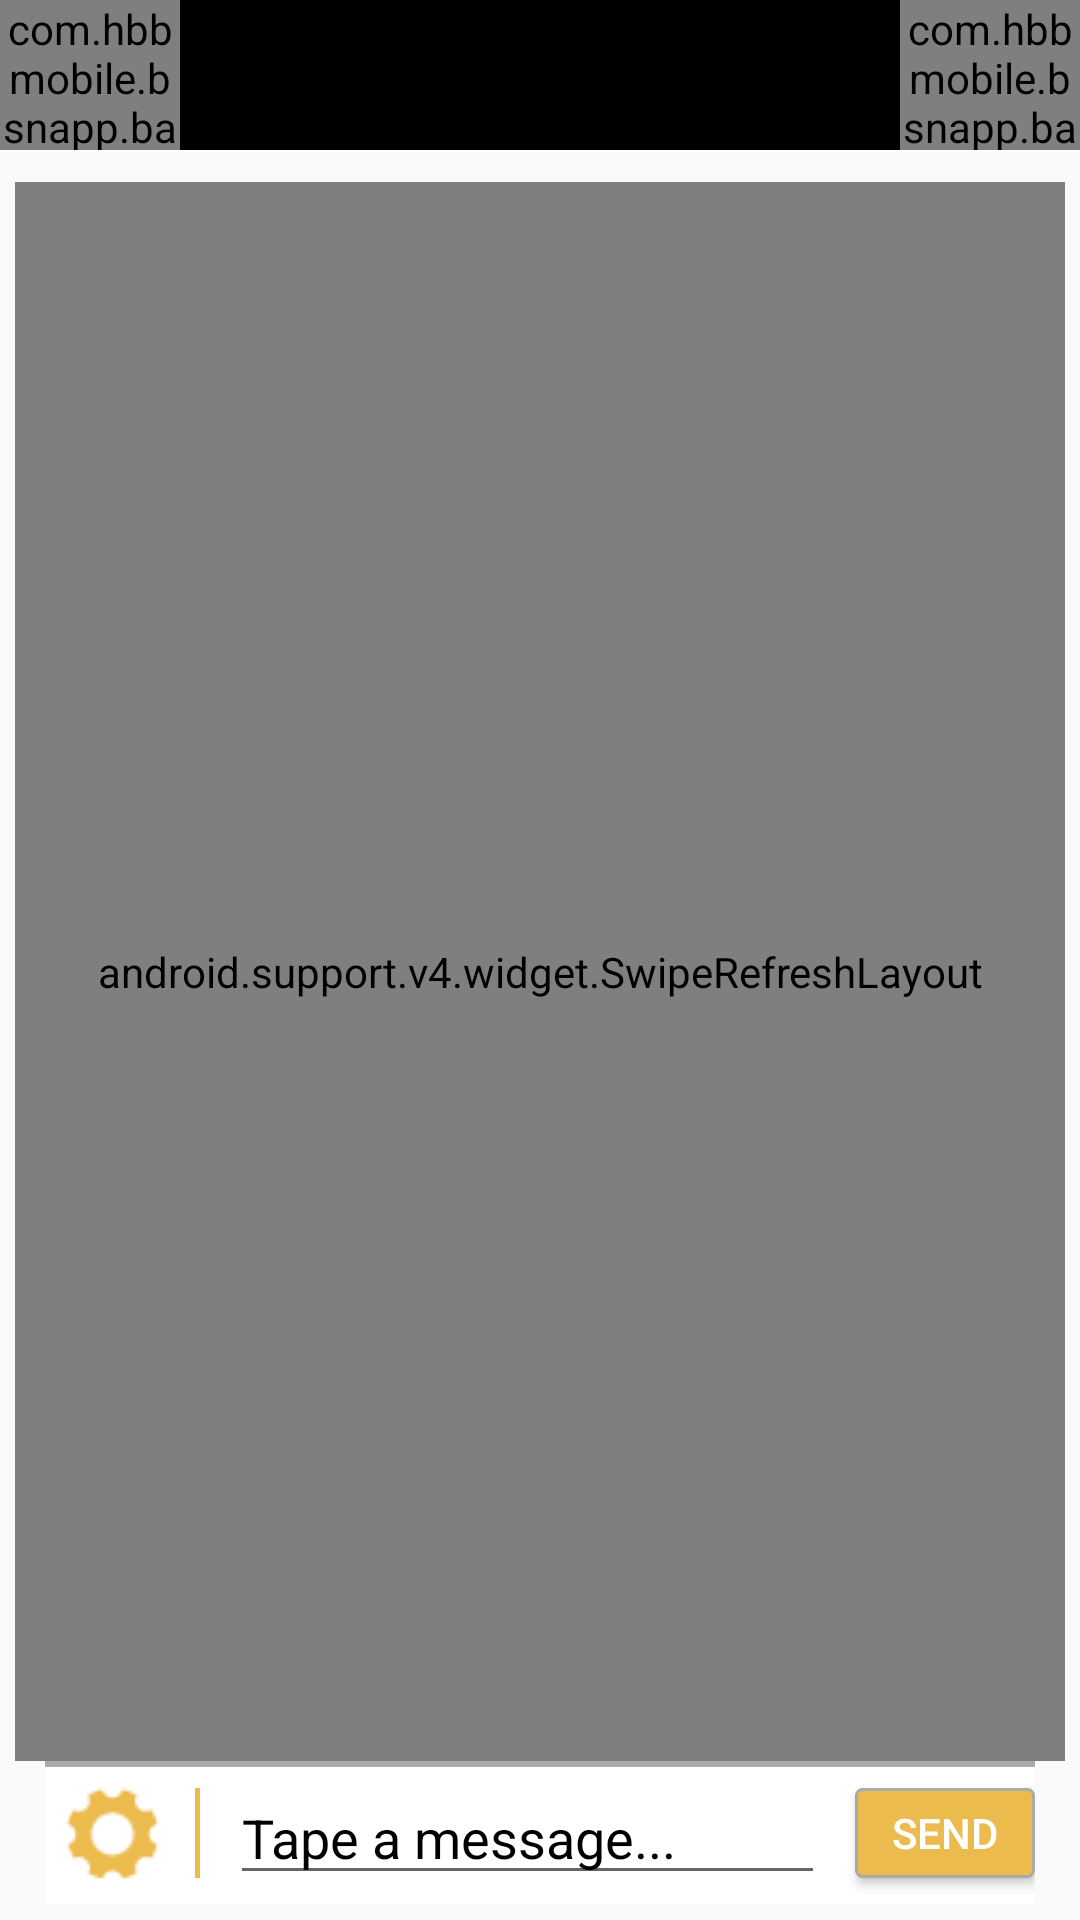

Icons on this 1080 × 1920 Android screen, each with its box as (x1, y1, x2, y2):
settings: (66, 1788, 159, 1879)
